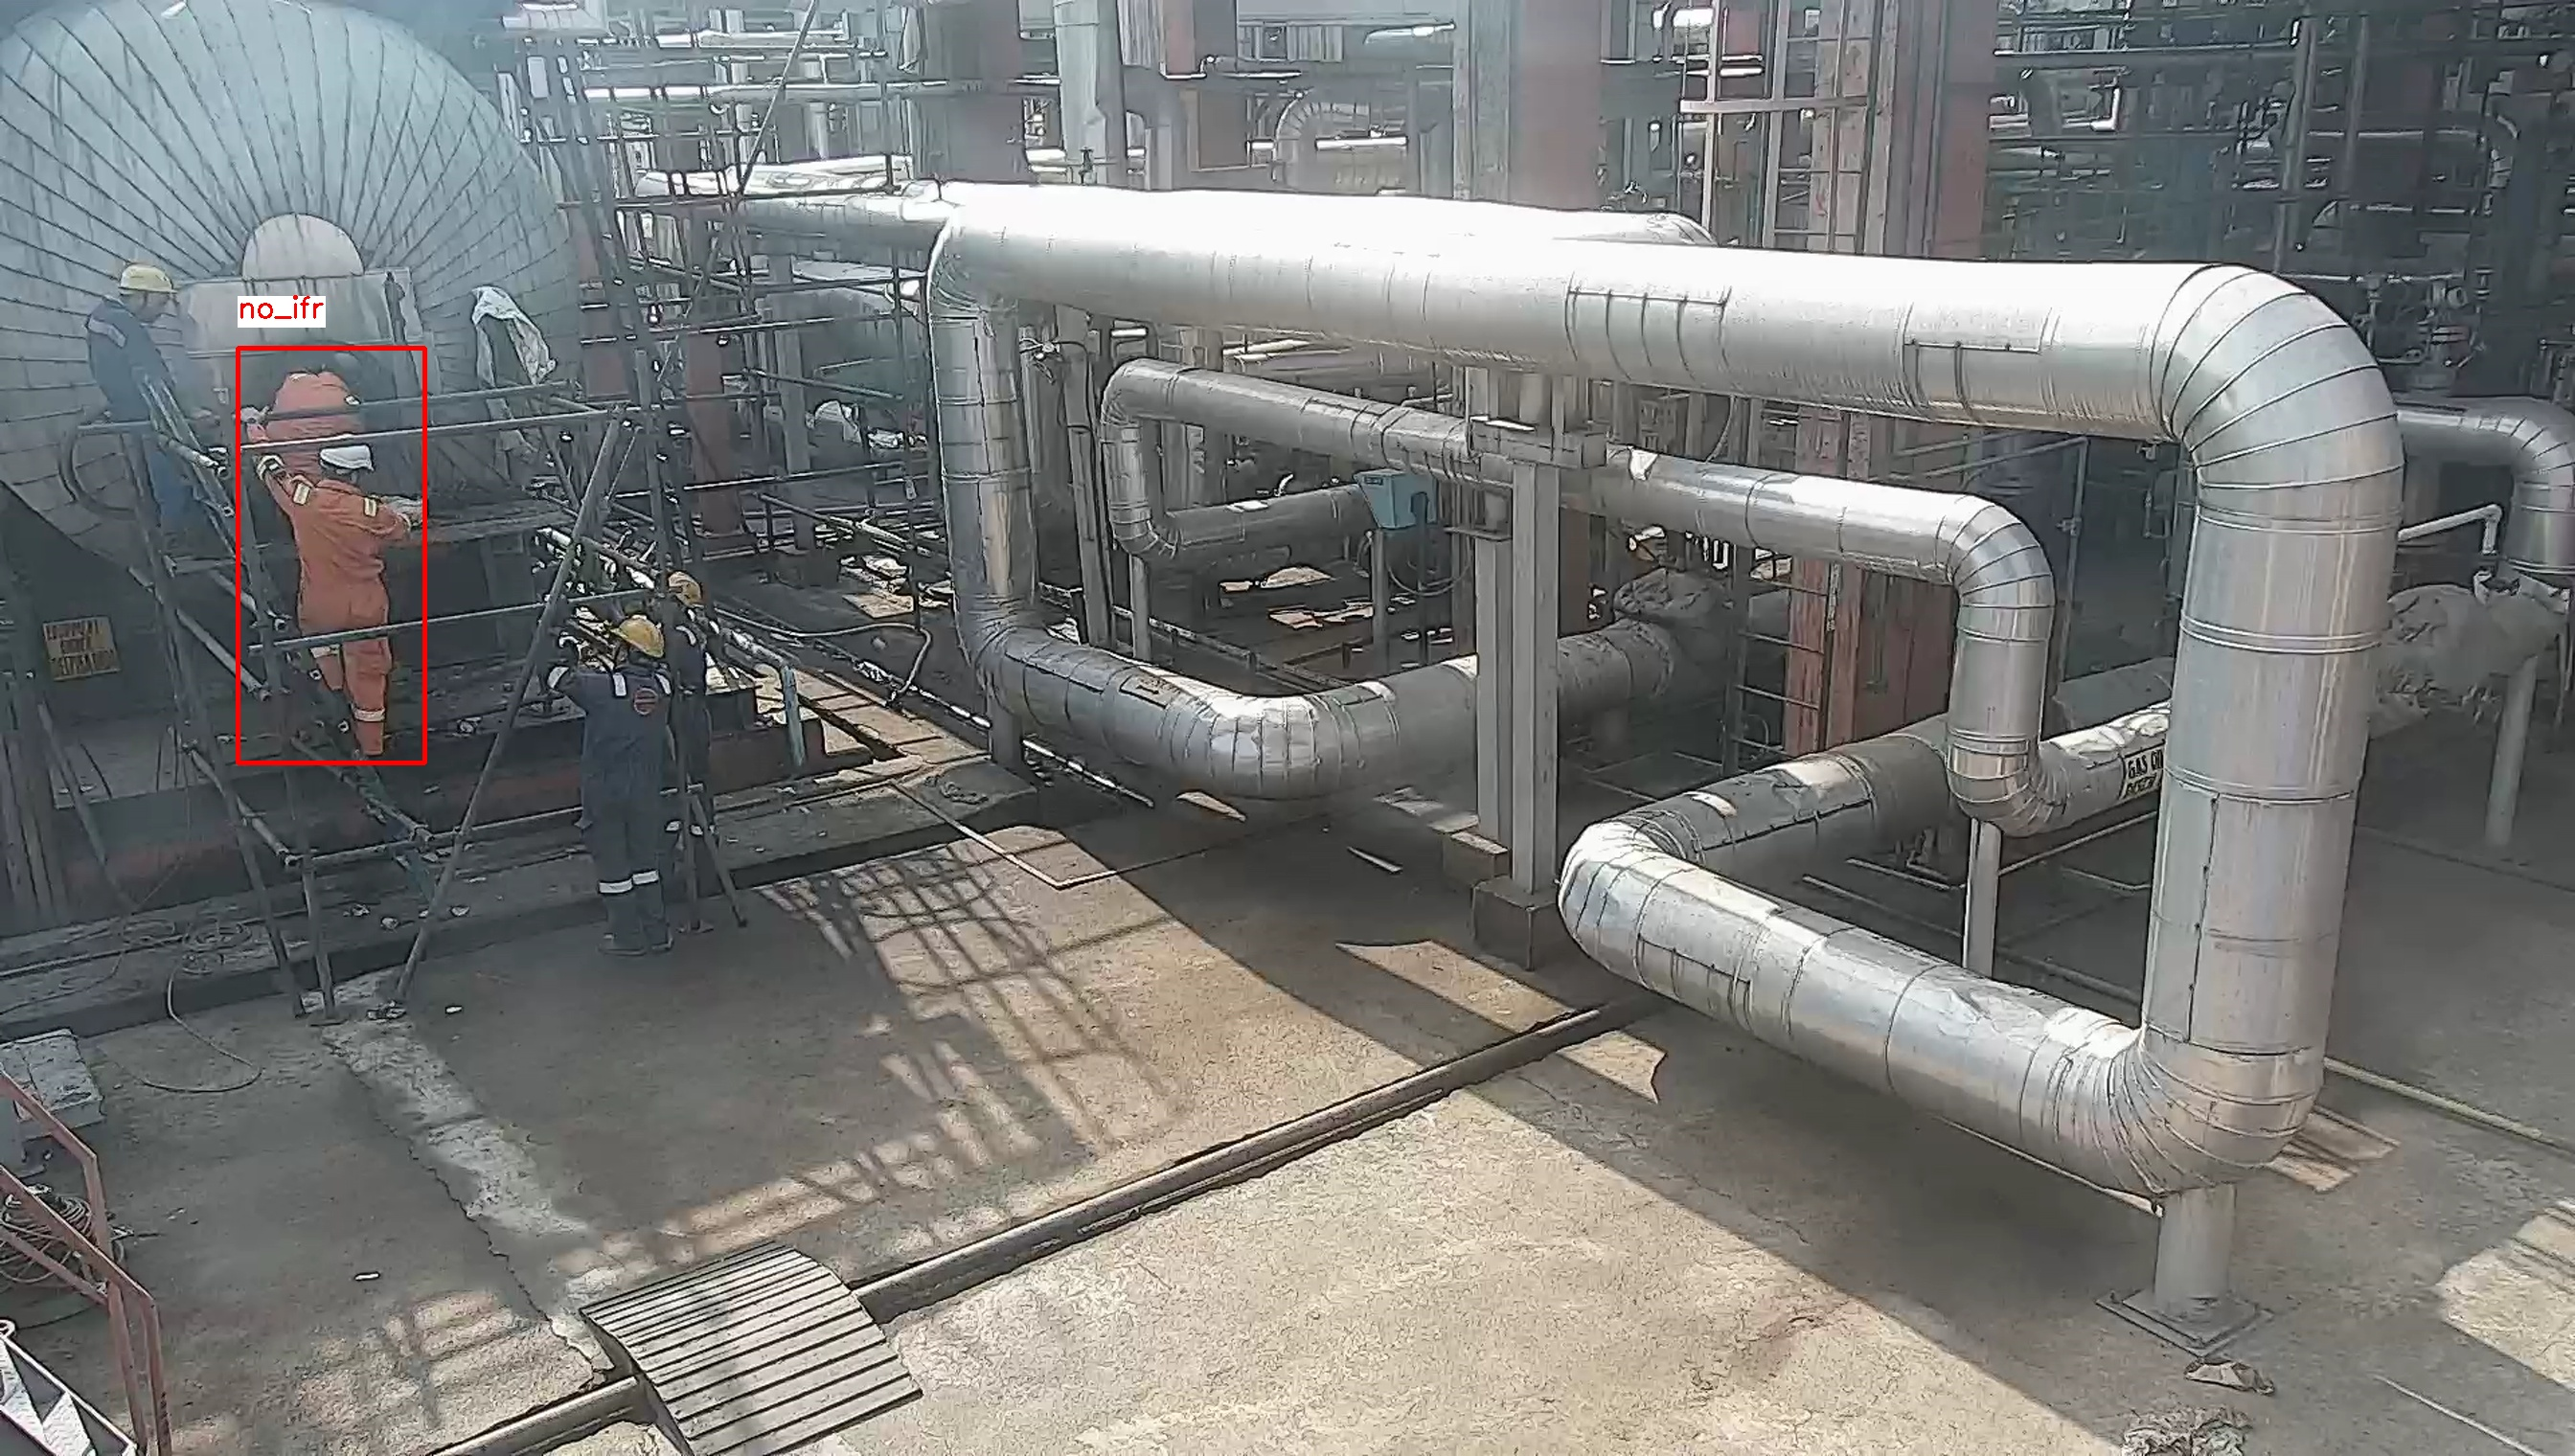Helmets: (605, 610, 669, 665), (317, 430, 378, 485), (113, 258, 186, 297), (658, 564, 707, 617)
IFR_Suit: (262, 467, 405, 761), (550, 669, 683, 932), (83, 299, 209, 557), (262, 361, 364, 444)
